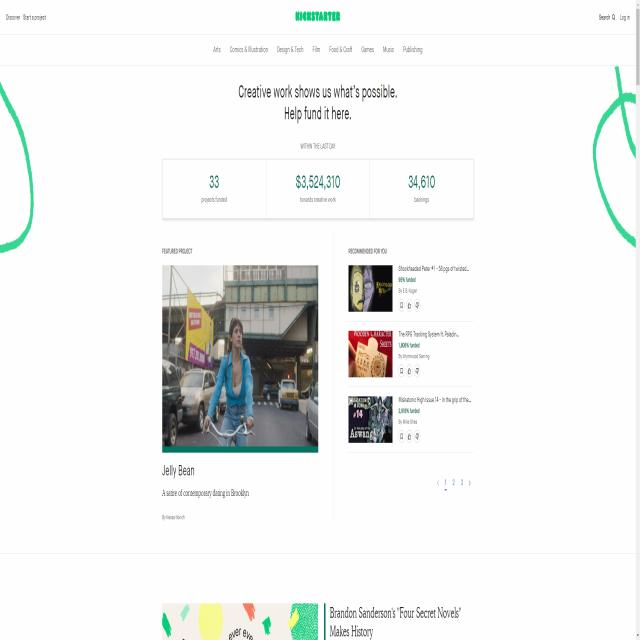menu-bar: (598, 7, 632, 26)
tab-bar: (207, 36, 431, 61)
